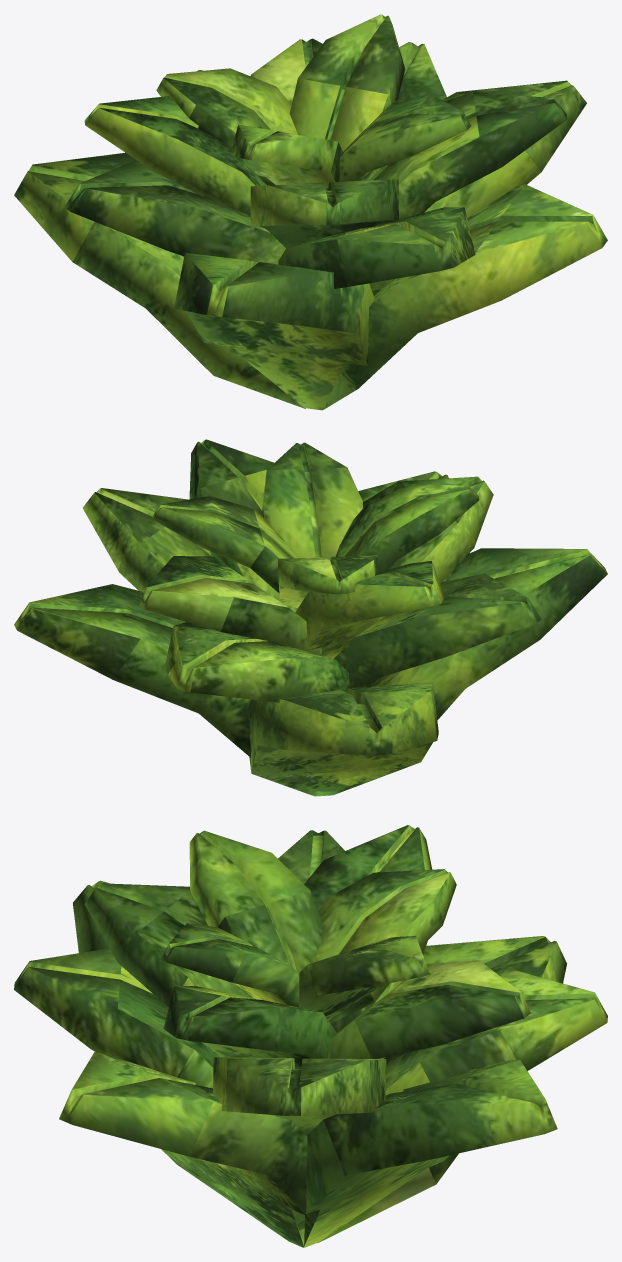
Rendered from arbustico.fbx.
3 renders of one model, top to bottom at view 1: azimuth 30°, elevation 25°; view 2: azimuth 150°, elevation 25°; view 3: azimuth 270°, elevation 25°, orthographic. The views are drawn at different scales.
Visible parts, largest first — view 1: Plane.009; view 2: Plane.009; view 3: Plane.009.
Boxes of the visible parts, x1=… form: Plane.009: x1=14, y1=14, x2=607, y2=410; Plane.009: x1=14, y1=439, x2=607, y2=796; Plane.009: x1=14, y1=825, x2=607, y2=1247.
Bounding box in the file's own units: 1002 × 616 × 943.
